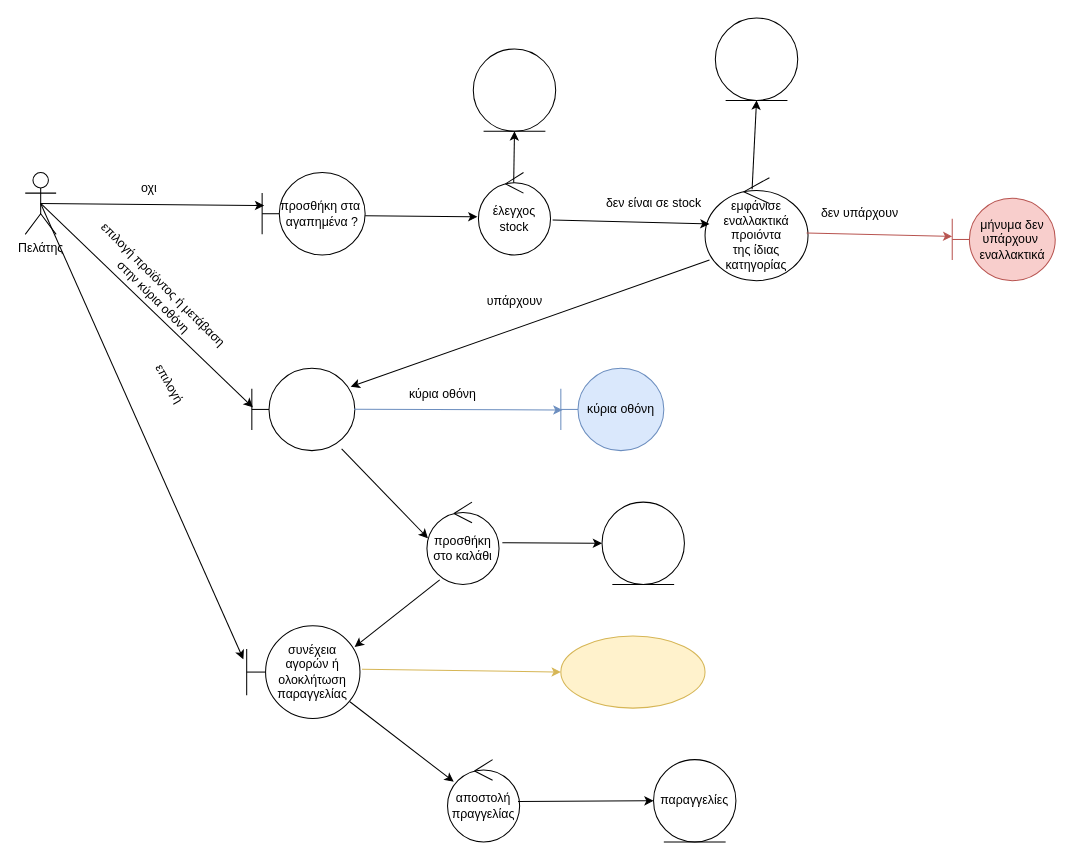
This 1073x860 diagram has some shape labels left out. Here are the shapes that lost their labels. From the top down, the box of each, then its label:
(714, 17, 798, 100): εναλλακτικά προιόντα
(472, 48, 556, 131): Προϊόντα
(251, 367, 355, 451): εναλλακτικά προϊόντα
(601, 501, 684, 585): καλάθι
(560, 635, 705, 708): δημιουργία παραγγελίας
